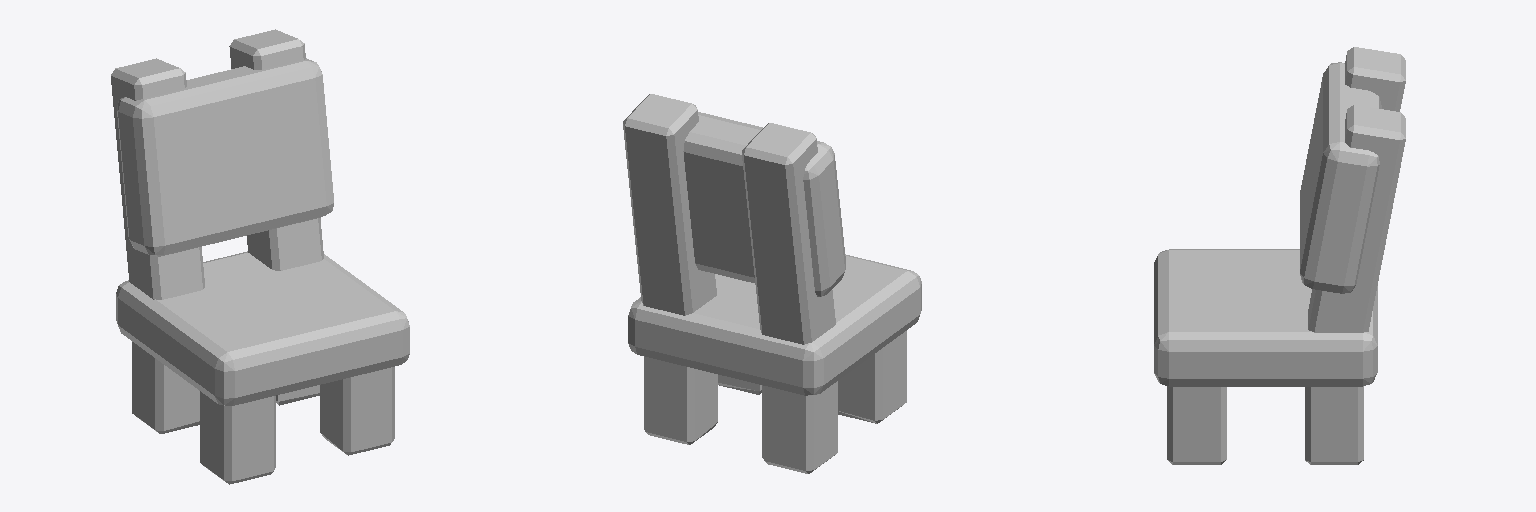
Rendered from chair_B_wood.obj.
The picture shows the model from 3 angles: view 1: azimuth 30°, elevation 25°; view 2: azimuth 150°, elevation 25°; view 3: azimuth 270°, elevation 25°; orthographic projection.
Parts seen in each view (by area): view 1: chair_B_wood_Cube.002; view 2: chair_B_wood_Cube.002; view 3: chair_B_wood_Cube.002.
Boxes of the visible parts, x1=… form: chair_B_wood_Cube.002: x1=111, y1=29, x2=409, y2=484; chair_B_wood_Cube.002: x1=623, y1=94, x2=921, y2=473; chair_B_wood_Cube.002: x1=1154, y1=47, x2=1405, y2=464.
Bounding box in the file's own units: 0.75 × 1.26 × 0.8451.